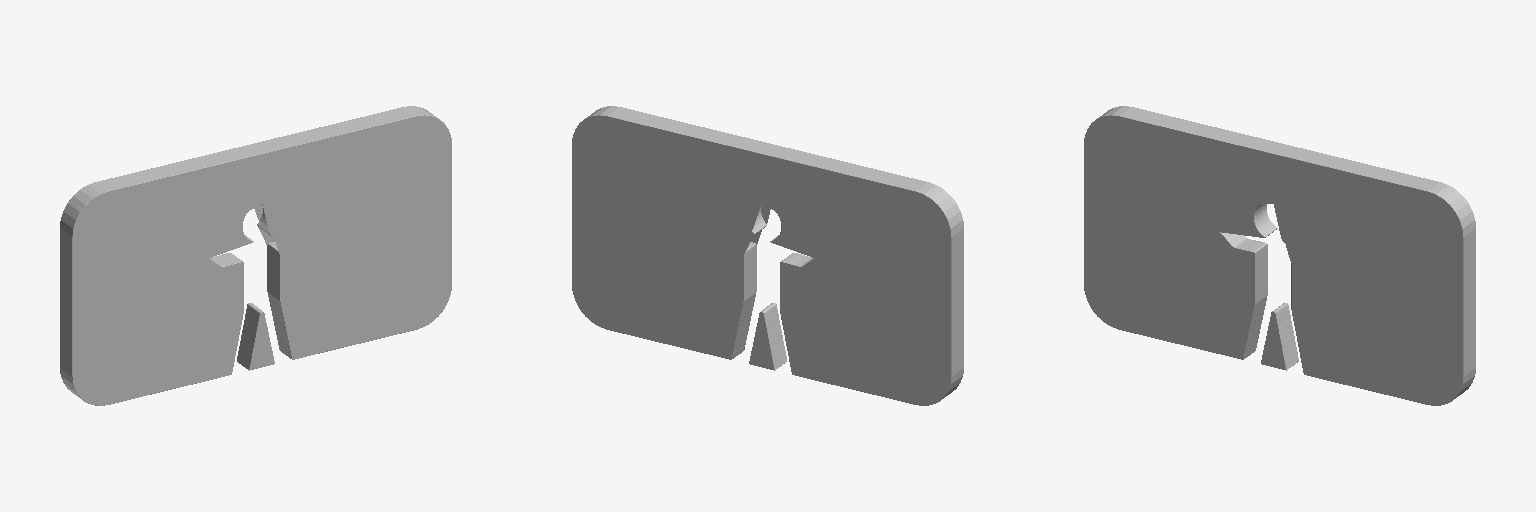
3 renders of one model, left to right at view 1: azimuth 30°, elevation 25°; view 2: azimuth 150°, elevation 25°; view 3: azimuth 330°, elevation 25°, orthographic.
Visible parts, largest first — view 1: POSE7; view 2: POSE7; view 3: POSE7.
Part boxes in pixels (x1,y1,x2,y2): POSE7: (60, 106, 451, 405); POSE7: (572, 106, 963, 405); POSE7: (1084, 106, 1475, 405).
Size of the model in its own units: 12 by 6.45 by 0.7.